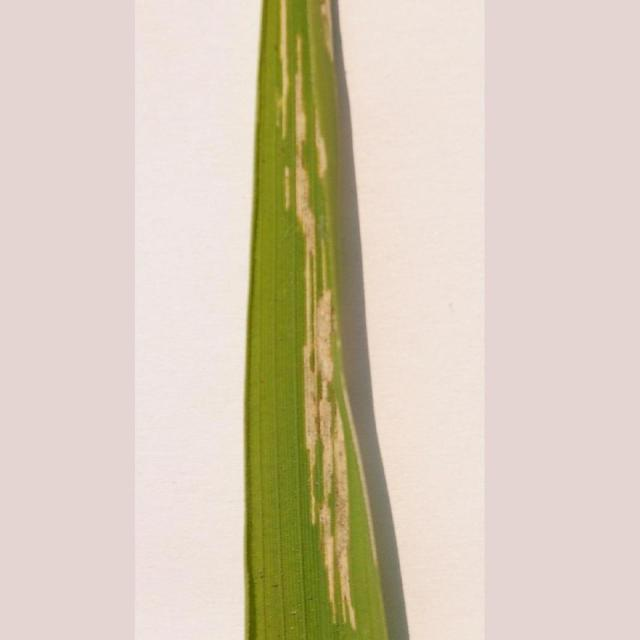Bacterial leaf blight: (263, 0, 390, 633)
